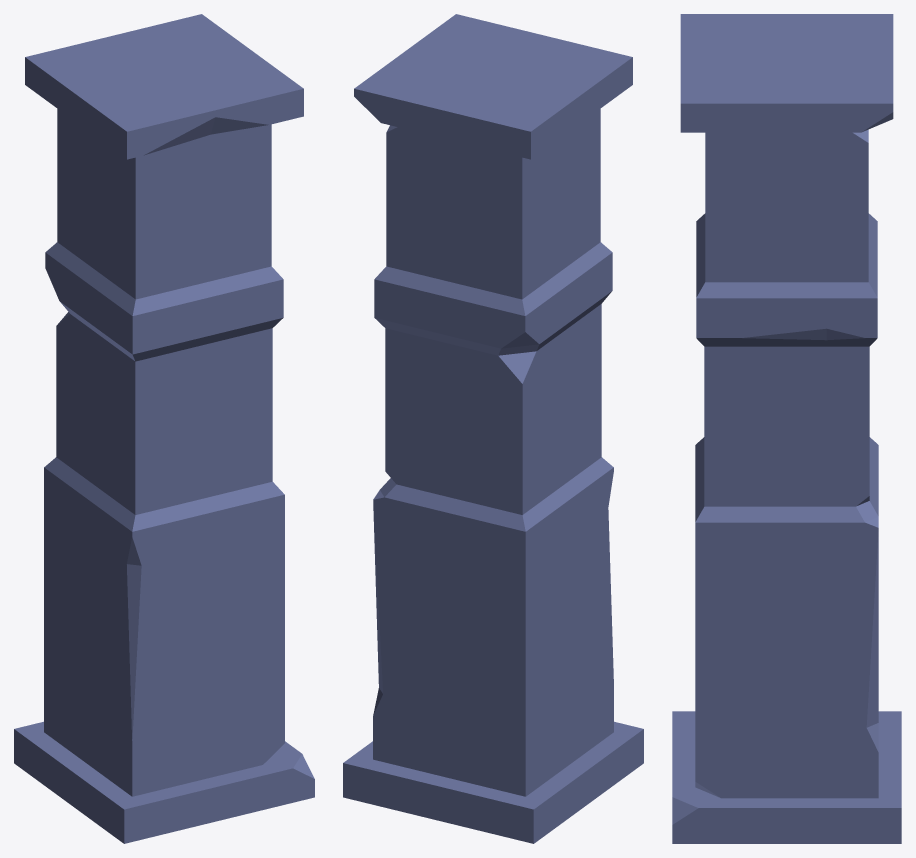
Rendered from column_1_2.fbx.
3 views of the same model, side by side, from view 1: azimuth 30°, elevation 25°; view 2: azimuth 150°, elevation 25°; view 3: azimuth 270°, elevation 25° (orthographic). The views are drawn at different scales.
Parts seen in each view (by area): view 1: column_1_2; view 2: column_1_2; view 3: column_1_2.
Part boxes in pixels (x1,y1,x2,y2): column_1_2: (14,14,314,843); column_1_2: (343,14,643,843); column_1_2: (672,14,901,843).
Bounding box in the file's own units: 2.6 × 9.22 × 2.6.
